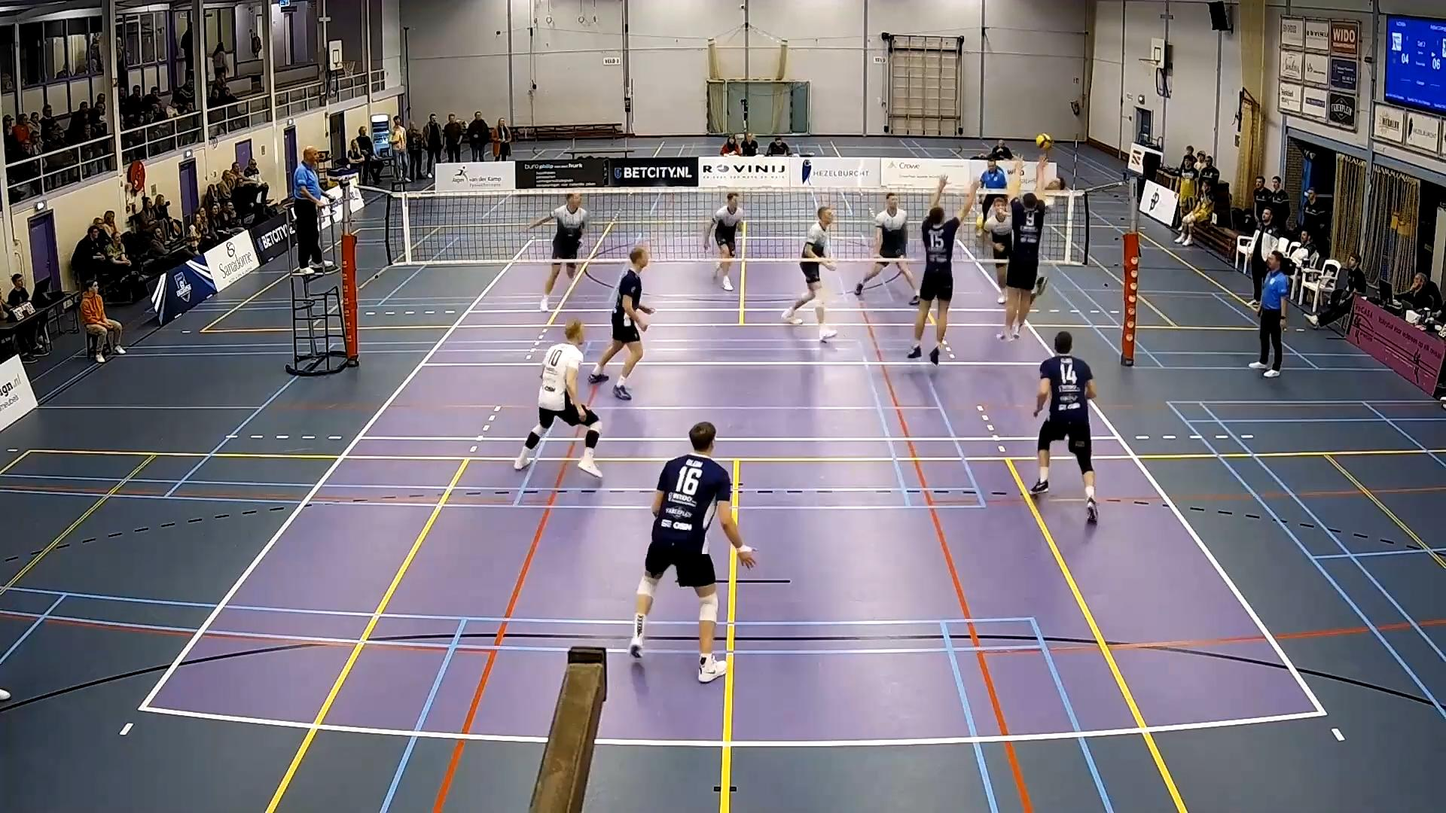attacco: (1025, 169, 1067, 271)
muro: (910, 175, 971, 371), (1003, 165, 1061, 338)
